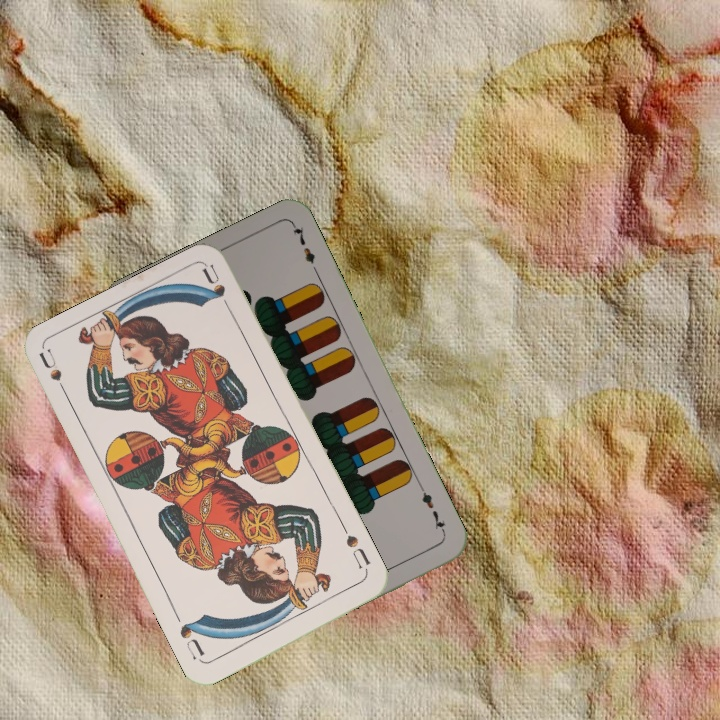E7: (415, 482, 449, 538)
SU: (36, 346, 73, 403), (341, 531, 373, 571)
